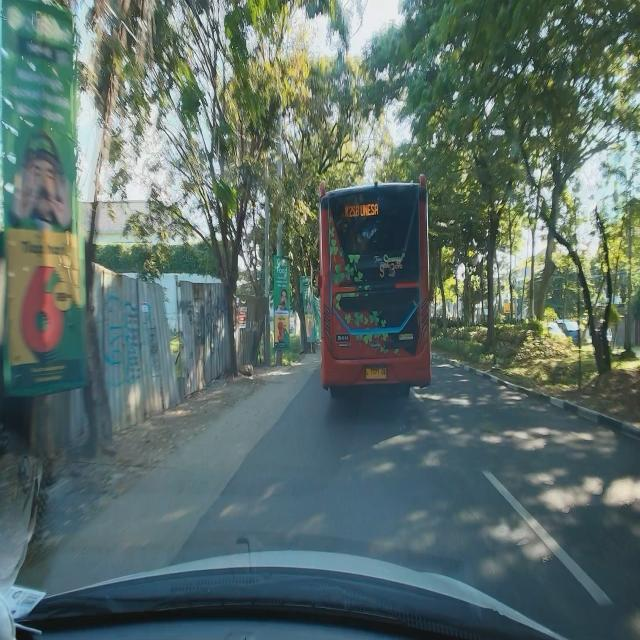bus: (317, 173, 433, 401)
license-plate: (365, 367, 388, 380)
